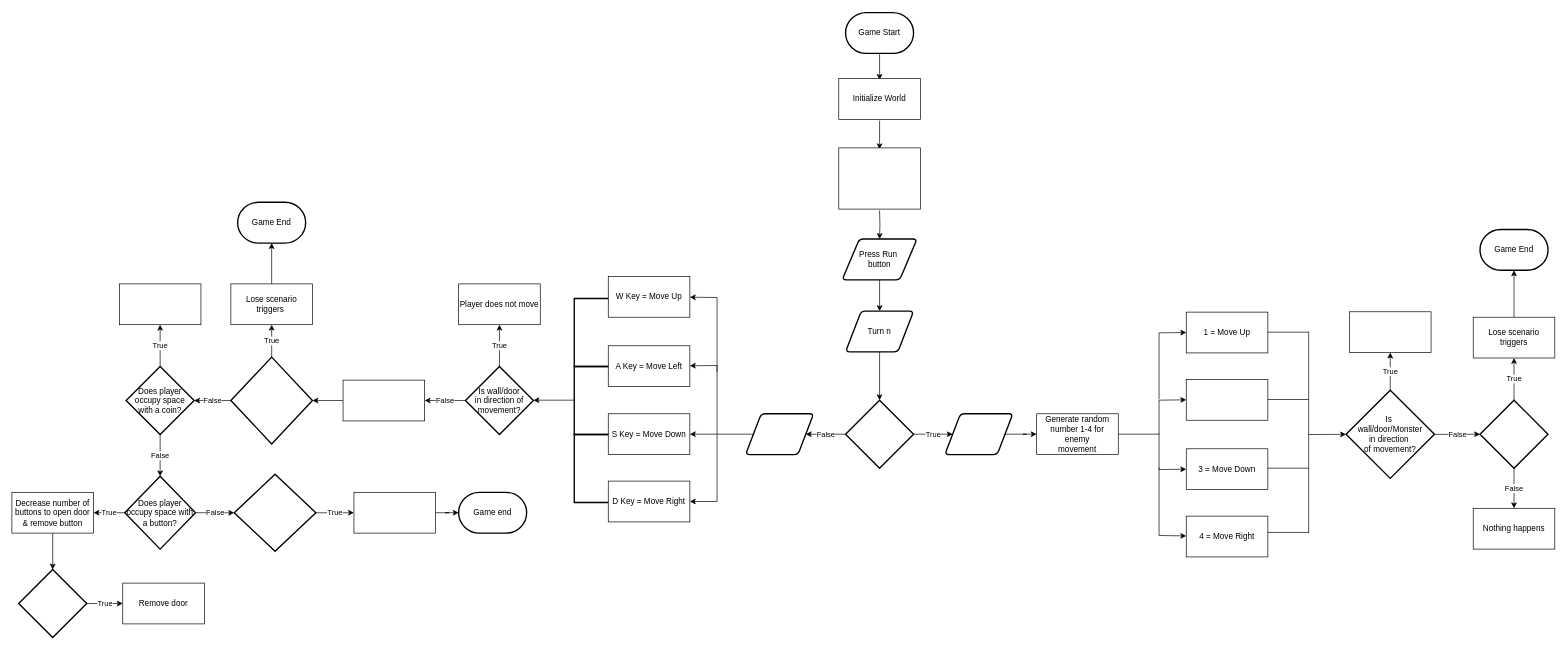
Image size: 1567x649. Some labels were removed from this diagram. The box of each missing label's shape, as (x1, y1, x2, y2) in pixels:
2 = Move Left: (1186, 379, 1268, 420)
Are all buttons activated?: (18, 568, 87, 638)
Does enemy a space with player?: (1479, 399, 1548, 469)
Does player occupy a space with an enemy?: (230, 356, 313, 444)
Does player occupy same space as exit?: (233, 473, 316, 552)
Enemy does not move: (1349, 311, 1431, 353)
Enemy Move: (944, 413, 1013, 455)
Has Player taken a turn?: (845, 399, 914, 469)
Increase player's score and remove coin: (119, 283, 201, 325)
Initialize the actors: Walls Door Buttons Player Enemies: (838, 147, 920, 209)
Move player in inputted direction: (342, 379, 425, 421)
Player Move: (745, 413, 814, 455)
Win scenario triggers: (353, 492, 436, 533)
